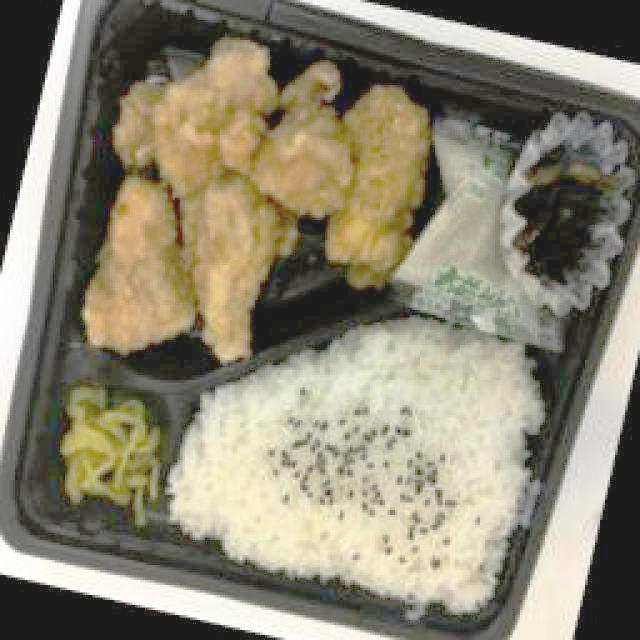fried_chicken: (84, 182, 195, 350), (334, 90, 424, 297), (263, 66, 352, 236), (155, 45, 267, 180), (195, 180, 276, 364)
rice: (207, 331, 526, 608)
